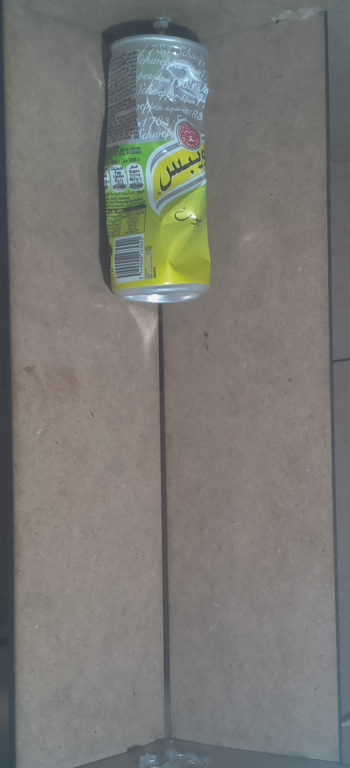Canette: (94, 27, 224, 316)
